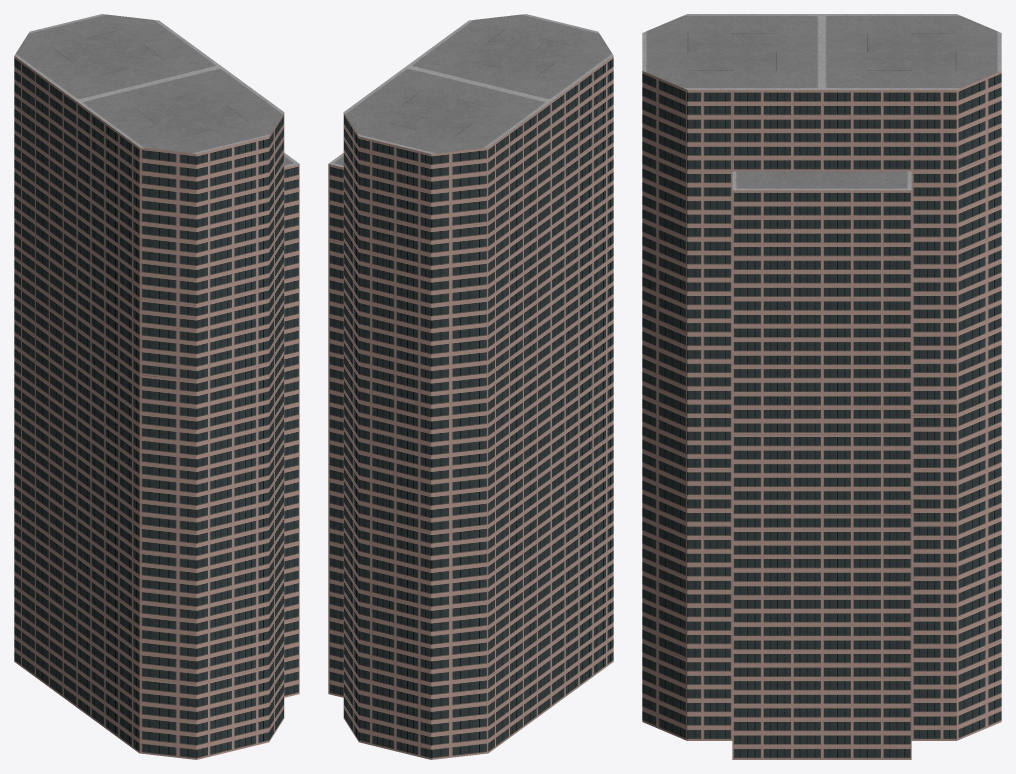
3 views of the same model, side by side, from view 1: azimuth 30°, elevation 25°; view 2: azimuth 150°, elevation 25°; view 3: azimuth 270°, elevation 25° (orthographic). The views are drawn at different scales.
Parts seen in each view (by area): view 1: Building_octagonLongTier; view 2: Building_octagonLongTier; view 3: Building_octagonLongTier.
Boxes of the visible parts, x1,y1,x2,y2 form: Building_octagonLongTier: (14,14,299,759); Building_octagonLongTier: (328,14,613,759); Building_octagonLongTier: (642,14,1001,759).
Size of the model in its own units: 3750 by 12000 by 6000.
Materials: 1 (1 with a texture image).
